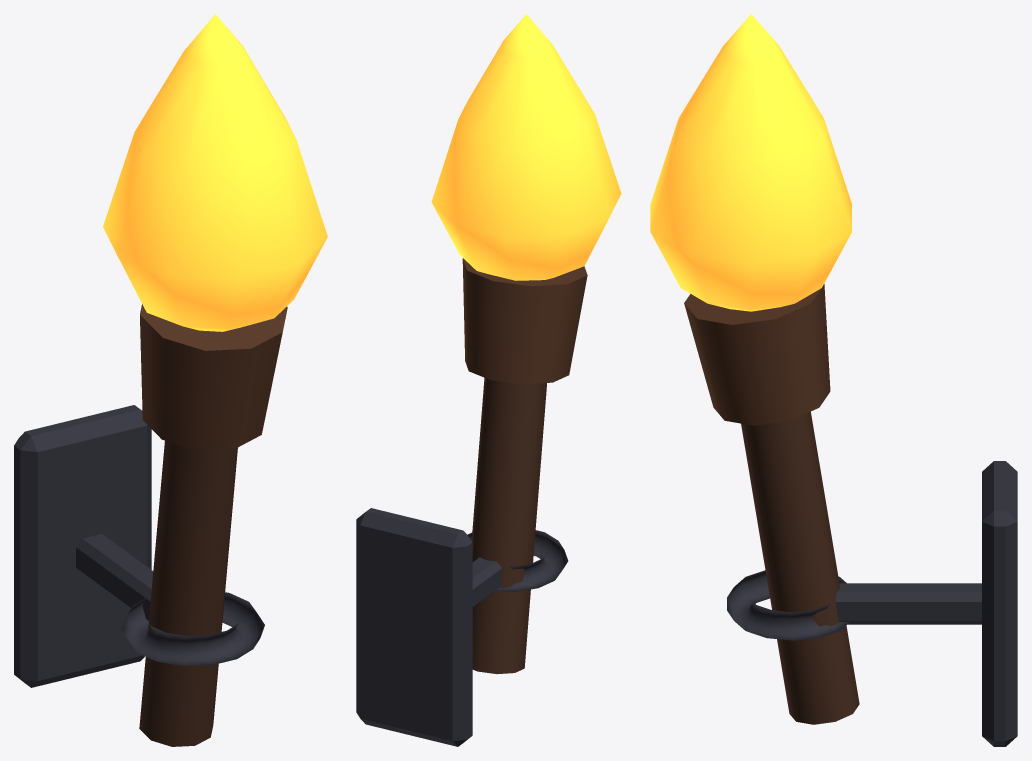
File: magic_torch.glb
The picture shows the model from 3 angles, left to right: view 1: azimuth 30°, elevation 25°; view 2: azimuth 150°, elevation 25°; view 3: azimuth 270°, elevation 25°; orthographic projection. The views are drawn at different scales.
Parts seen in each view (by area): view 1: magic_torch; view 2: magic_torch; view 3: magic_torch.
Boxes of the visible parts, box(x1,y1,x2,y2) form: magic_torch: box(14, 14, 327, 746); magic_torch: box(356, 14, 621, 746); magic_torch: box(650, 14, 1017, 746).
Size of the model in its own units: 0.1792 by 0.66 by 0.3102.
